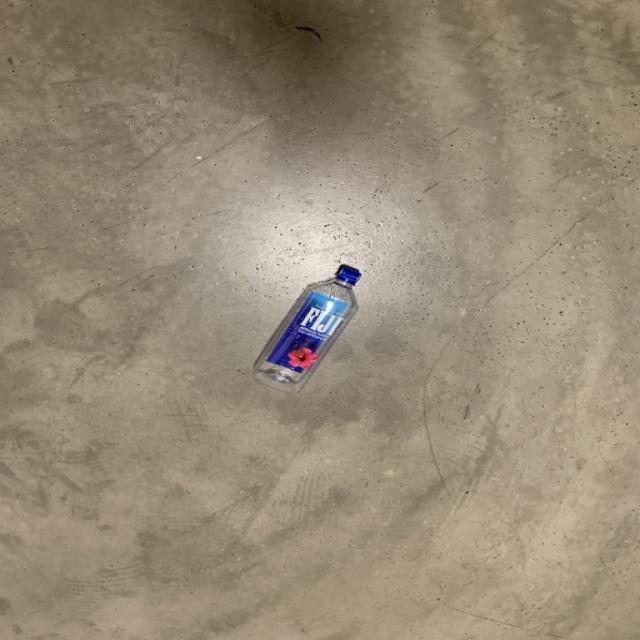Waste: (255, 265, 361, 393)
